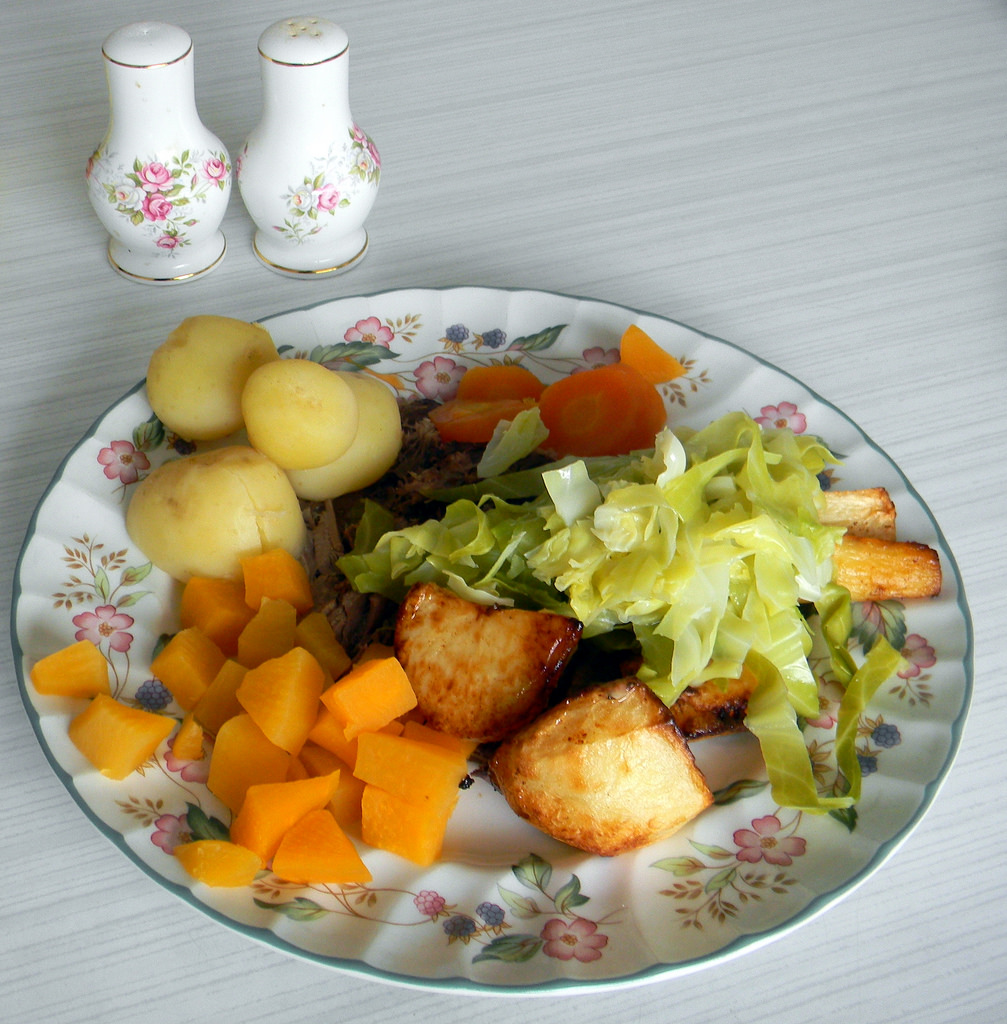boiled potatoes: (136, 448, 314, 572), (246, 353, 401, 468), (149, 316, 277, 426)
chopped lettuce: (451, 467, 824, 671)
